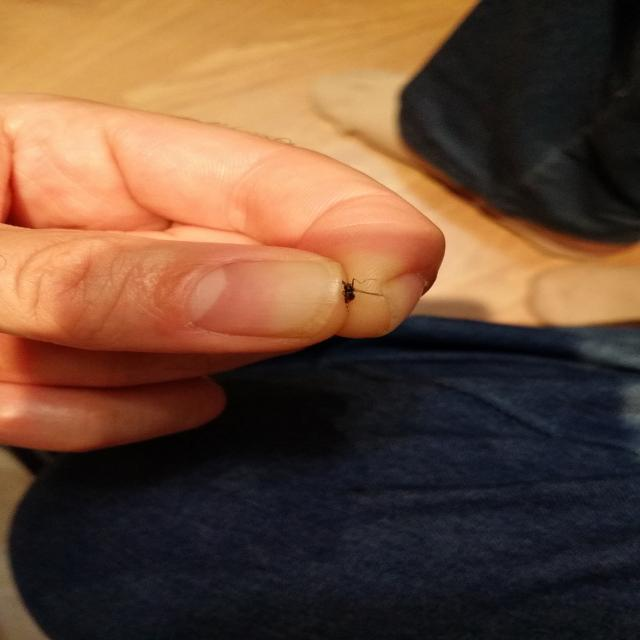albopictus: (323, 273, 385, 308)
